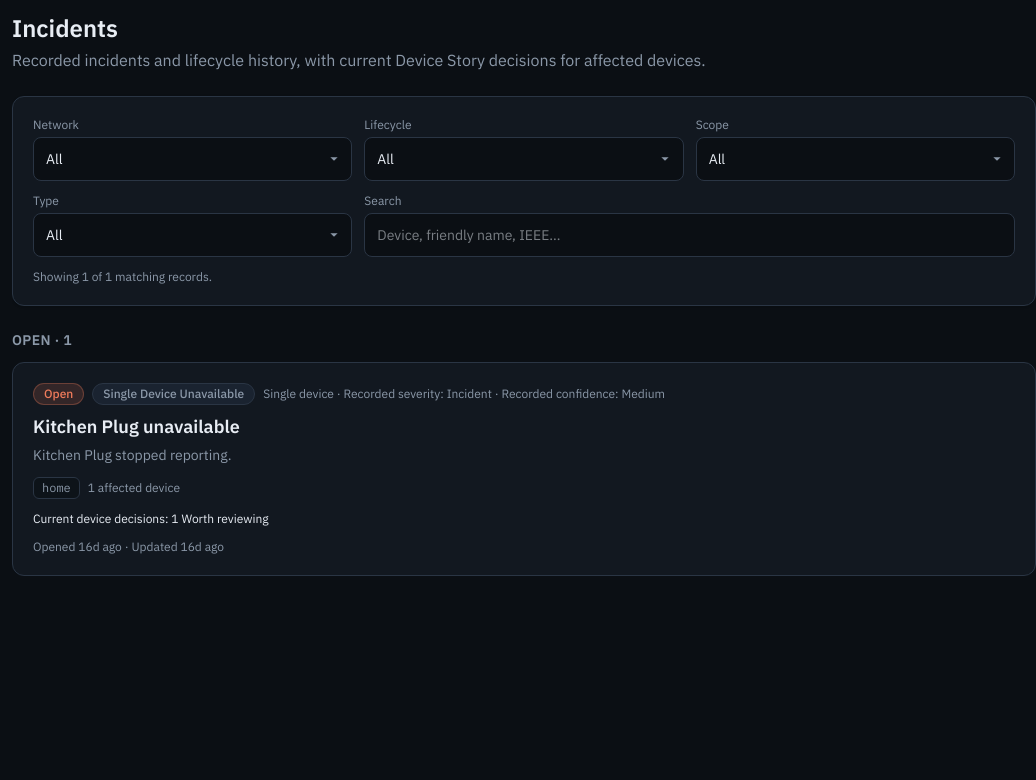
Test: IncidentsPage list › keeps filters and clear action when network filter returns zero
Expected: the heading "Kitchen Plug unavailable" is shown, [33, 415, 240, 438]
Select "garage" in the dropdown labelled "Network" at [193, 159], box [33, 137, 352, 181]
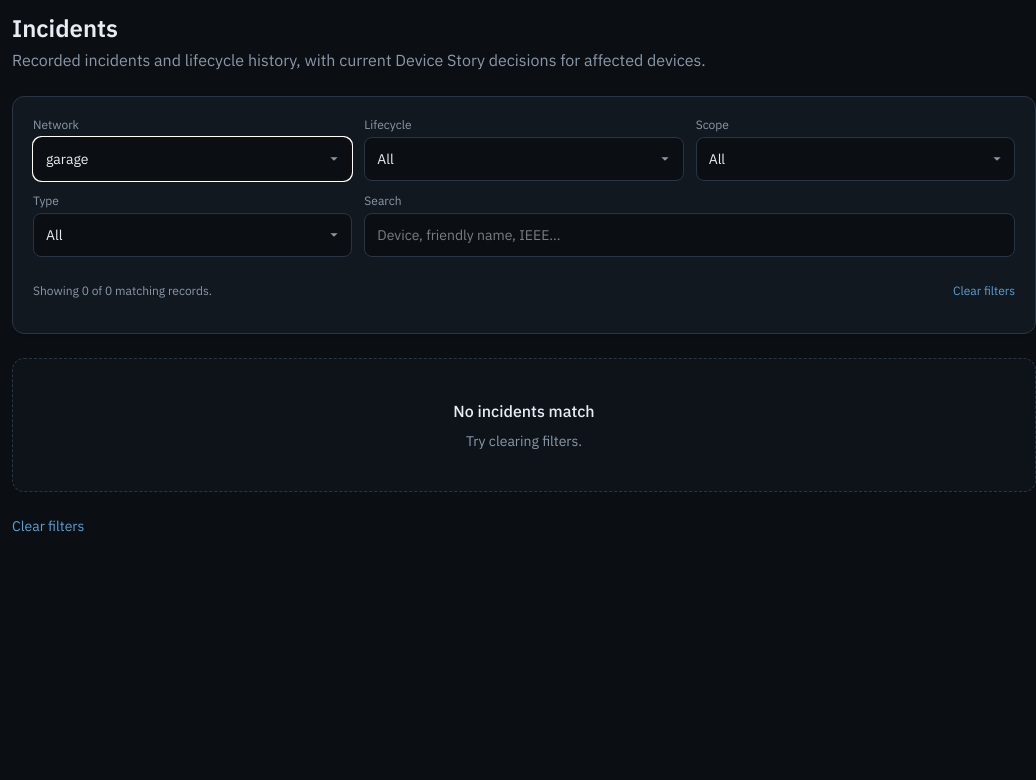
Expected: the text "No incidents match" is shown, [453, 401, 595, 421]
Click the button "Clear filters" in the row of "matching records".
click(984, 291)  # box [953, 269, 1015, 313]
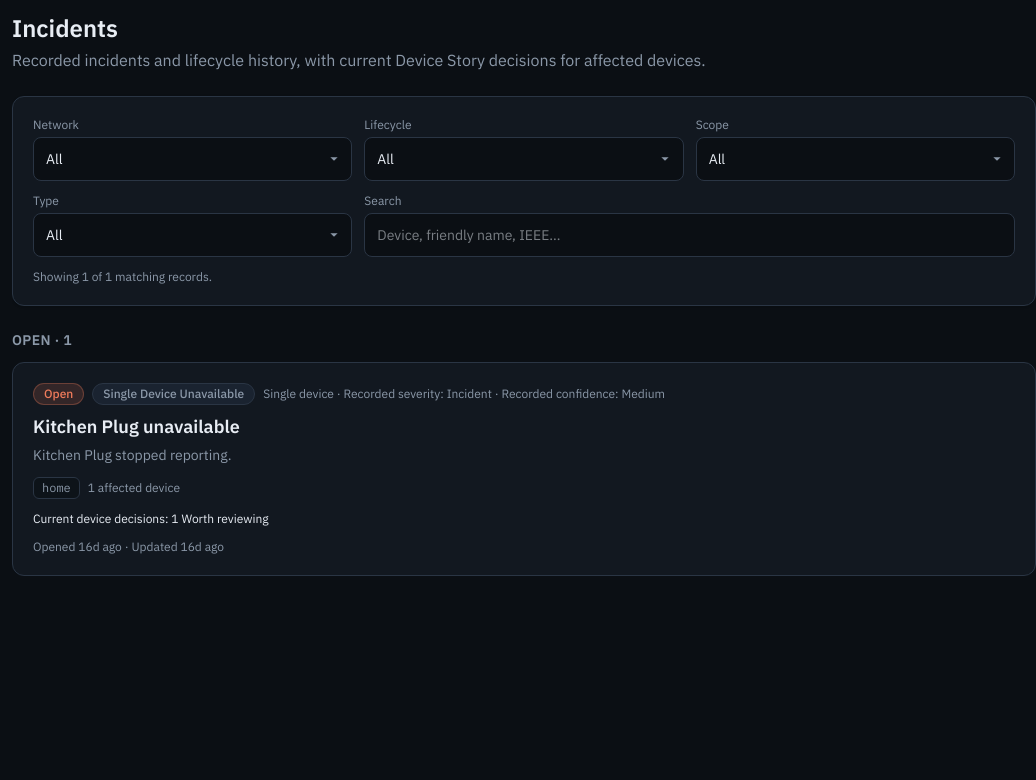
Expected: the heading "Kitchen Plug unavailable" is shown, [33, 415, 240, 438]
